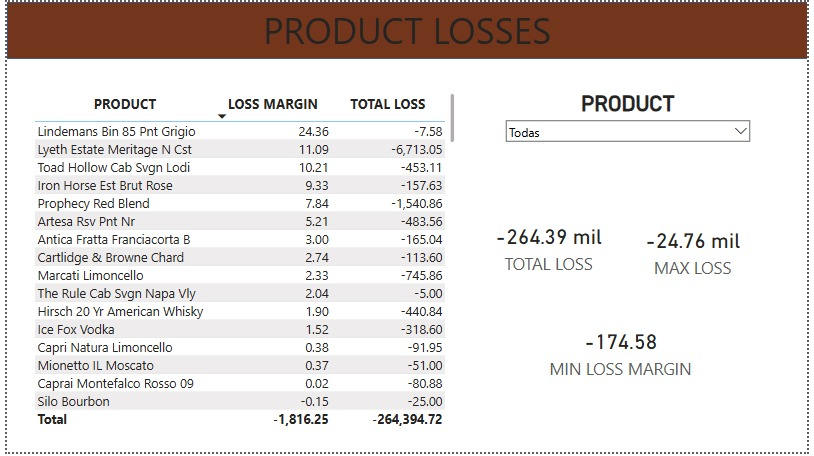

What the dashboard file says about the page in this screenshot:
{"tool":"powerbi","page":{"name":"Product Losses","canvas":[1600,900],"ordinal":2},"visuals":[{"type":"shape","box":[0,0,3100,113.8],"z":0},{"type":"textbox","box":[475,0,647.5,115],"z":1},{"type":"tableEx","fields":{"Values":["PRODUCTS_LOSS.PRODUCT","Sum(PRODUCTS_LOSS.PROFIT_MARGIN_PERCENTAGE)","Sum(PRODUCTS_LOSS.TOTAL_PROFIT)"]},"box":[50,177.5,850,677.5],"z":2},{"type":"card","fields":{"Values":["Sum(PRODUCTS_LOSS.TOTAL_PROFIT)"]},"box":[957.5,412.5,250,150],"z":3},{"type":"card","fields":{"Values":["Min(PRODUCTS_LOSS.TOTAL_PROFIT)"]},"box":[1245,420,250,150],"z":4},{"type":"card","fields":{"Values":["Min(PRODUCTS_LOSS.PROFIT_MARGIN_PERCENTAGE)"]},"box":[957.5,622.5,537.5,150],"z":5},{"type":"slicer","title":"PRODUCT","fields":{"Values":["PRODUCTS_LOSS.PRODUCT"]},"box":[987.5,177.5,507.5,147.5],"z":6}]}

Visuals, with their boxes in screenshot pixels (x1, y1, x2, y2), scaled from the page's 1600x900 canvas onto the 814x456 screenshot:
shape: bbox=(0, 0, 813, 58)
textbox: bbox=(242, 0, 571, 58)
tableEx - PRODUCTS_LOSS.PRODUCT x Sum(PRODUCTS_LOSS.PROFIT_MARGIN_PERCENTAGE): bbox=(25, 90, 458, 433)
card - Sum(PRODUCTS_LOSS.TOTAL_PROFIT): bbox=(487, 209, 614, 285)
card - Min(PRODUCTS_LOSS.TOTAL_PROFIT): bbox=(633, 213, 761, 289)
card - Min(PRODUCTS_LOSS.PROFIT_MARGIN_PERCENTAGE): bbox=(487, 315, 761, 391)
"PRODUCT" slicer: bbox=(502, 90, 761, 165)
